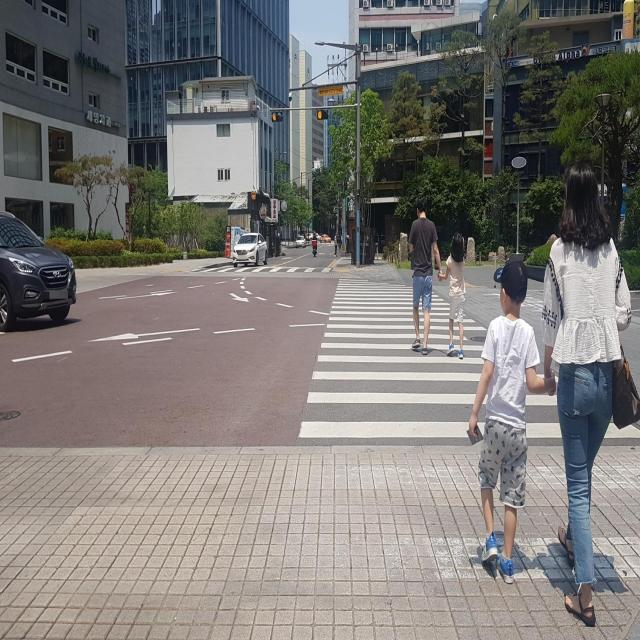횡단보도: (296, 274, 639, 441), (182, 263, 330, 276)
